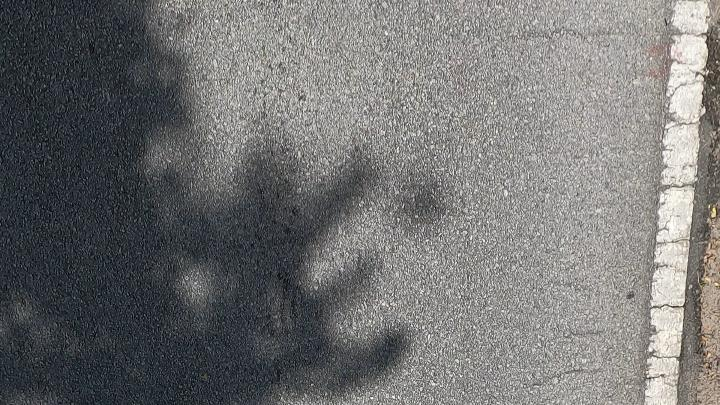Lane: (640, 0, 720, 405), (645, 0, 709, 404)
